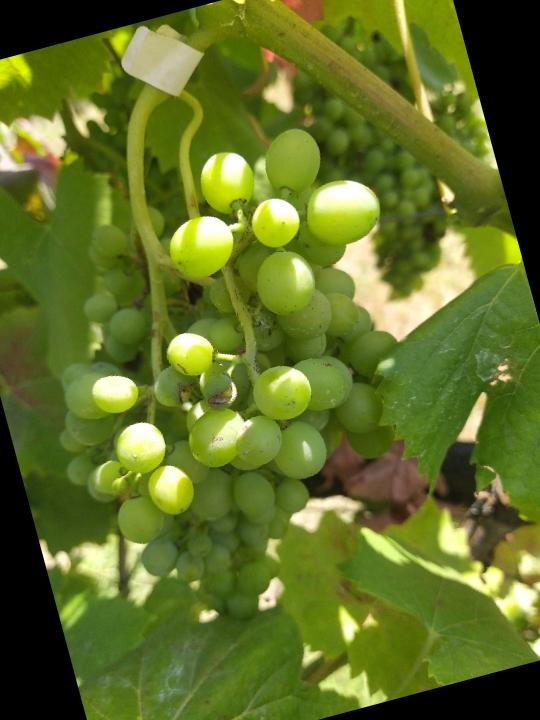grape: (0, 106, 480, 657)
